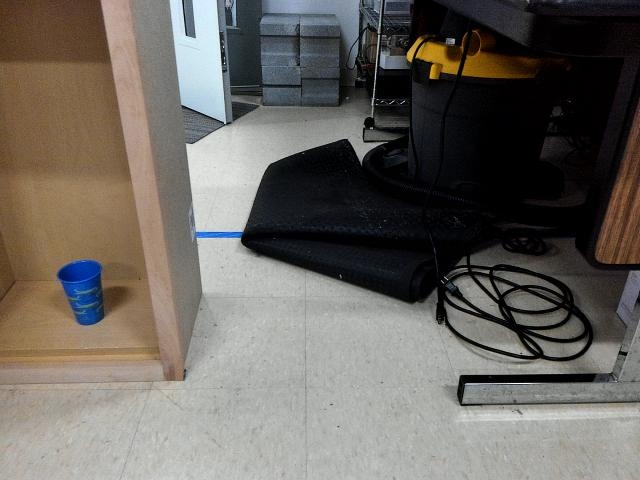water_cup: (54, 255, 108, 327)
